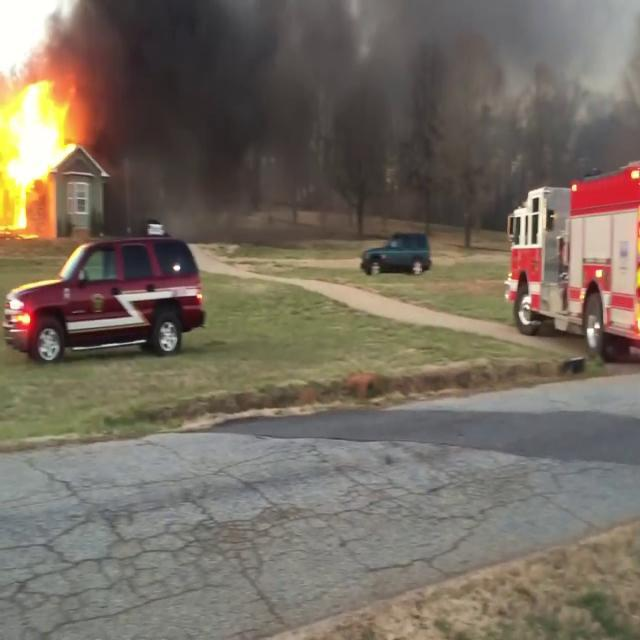Fire: (0, 75, 78, 228)
Smoke: (53, 0, 629, 226)
